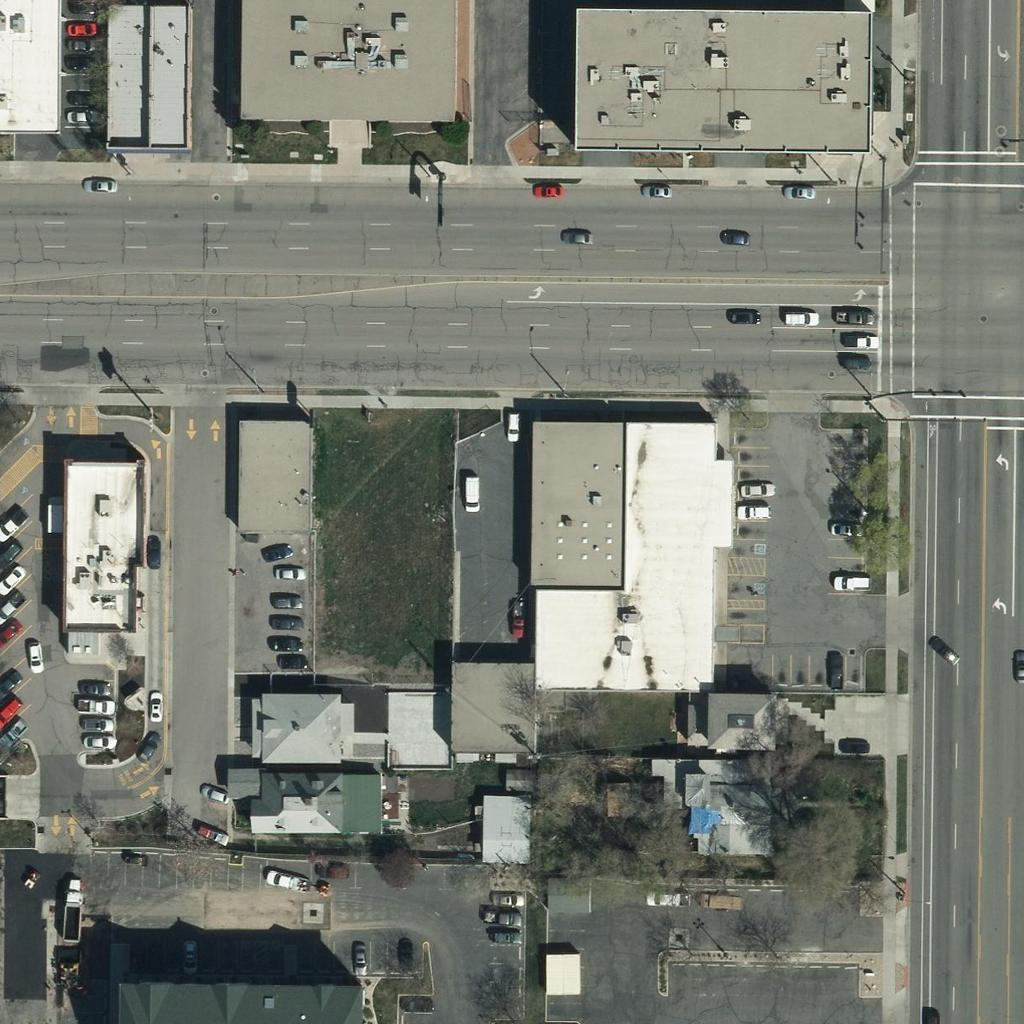car: (62, 10, 96, 44), (62, 29, 96, 63), (64, 43, 98, 77), (66, 81, 100, 115), (65, 98, 99, 132), (83, 167, 117, 201), (639, 172, 673, 206), (531, 173, 565, 207), (783, 174, 817, 208), (559, 219, 593, 253), (718, 219, 752, 253), (782, 299, 816, 333), (723, 300, 757, 334), (840, 300, 874, 334), (845, 325, 879, 359), (841, 346, 875, 380), (495, 408, 529, 442), (738, 472, 772, 506), (453, 478, 487, 512), (738, 492, 772, 526), (829, 511, 863, 545), (262, 533, 296, 567), (136, 534, 170, 568), (273, 555, 307, 589), (833, 568, 867, 602), (270, 584, 304, 618), (269, 605, 303, 639), (272, 625, 306, 659), (926, 634, 960, 668), (17, 640, 51, 674), (277, 646, 311, 680), (819, 653, 853, 687), (77, 669, 111, 703), (79, 687, 113, 721), (137, 688, 171, 722), (79, 708, 113, 742), (82, 725, 116, 759), (133, 730, 167, 764), (837, 731, 871, 765), (198, 777, 232, 811), (118, 841, 152, 875), (264, 862, 298, 896), (488, 881, 522, 915), (645, 882, 679, 916), (485, 902, 519, 936), (487, 920, 521, 954), (389, 936, 423, 970), (340, 941, 374, 975), (393, 987, 427, 1021), (0, 716, 30, 750), (0, 562, 28, 596), (0, 509, 25, 543), (0, 614, 25, 648), (0, 536, 24, 570), (0, 590, 24, 624), (0, 666, 24, 700), (0, 695, 22, 729), (64, 0, 98, 21), (1003, 651, 1024, 685)
